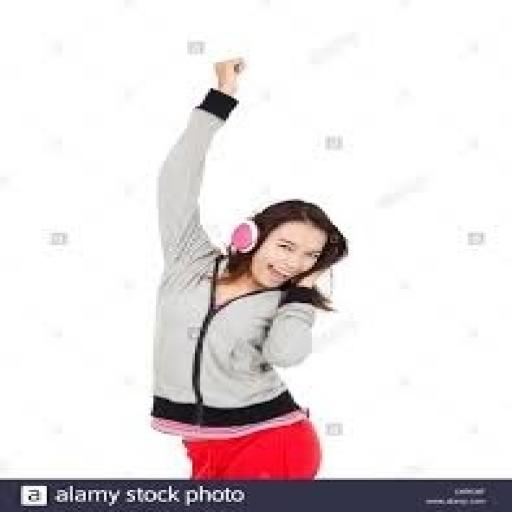listening_to_music: (146, 52, 354, 482)
